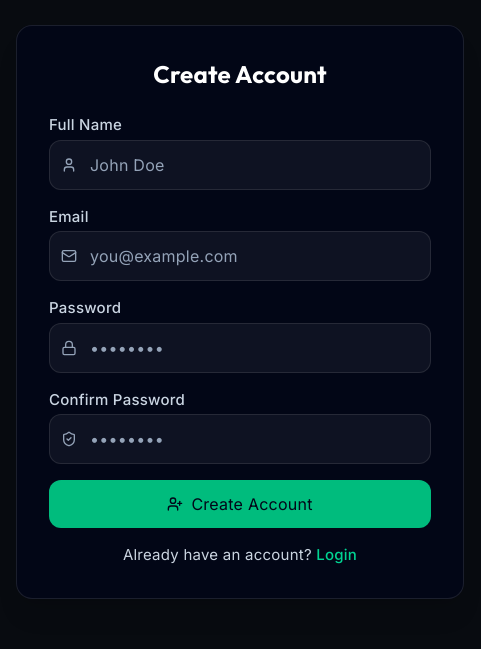
Scenario: Register Component Tests › should show success checkmark when passwords match
The width and height of the screenshot is (481, 649).
Type "password123" into the 1st password field with placeholder "••••••••". click: (240, 348)
box: [49,323,431,373]
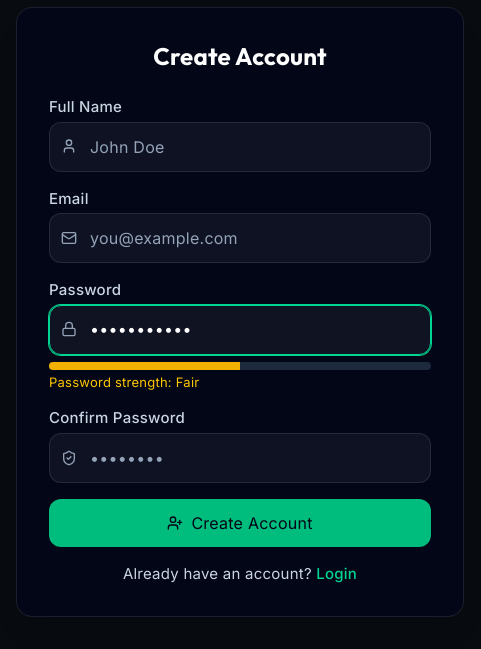
Type "password123" into the password field with placeholder "••••••••". click: (240, 458)
box: [49,433,431,483]
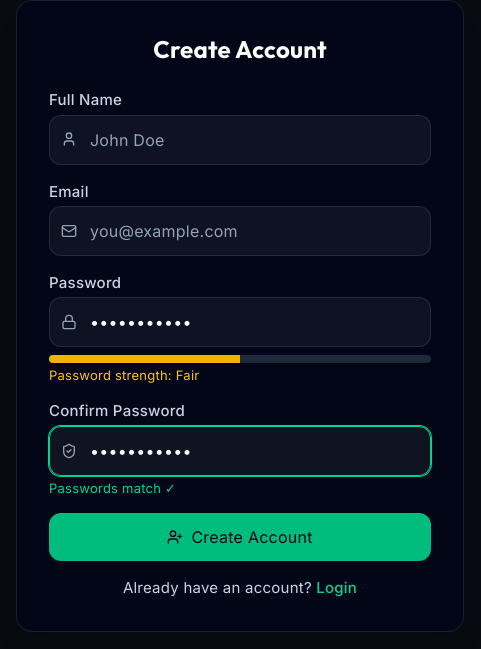
Expected: the text "Passwords match ✓" is shown, [49,480,176,496]
